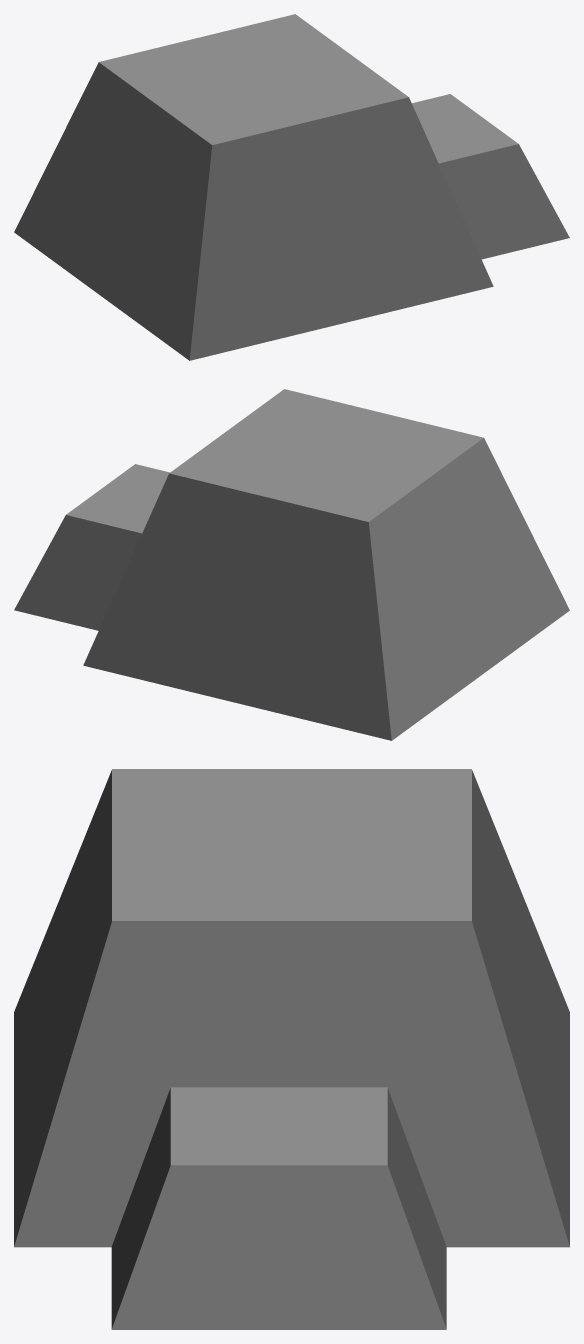
The model's file is SM_Env_Rock_Grey_02.fbx.
3 renders of one model, top to bottom at view 1: azimuth 30°, elevation 25°; view 2: azimuth 150°, elevation 25°; view 3: azimuth 270°, elevation 25°, orthographic. The views are drawn at different scales.
Visible parts, largest first — view 1: SM_Env_Rock_Grey_02; view 2: SM_Env_Rock_Grey_02; view 3: SM_Env_Rock_Grey_02.
Boxes of the visible parts, box(x1,y1,x2,y2) form: SM_Env_Rock_Grey_02: box(14, 14, 569, 360); SM_Env_Rock_Grey_02: box(14, 389, 569, 740); SM_Env_Rock_Grey_02: box(14, 769, 569, 1329).
Bounding box in the file's own units: 1.44 × 0.6003 × 1.06.
